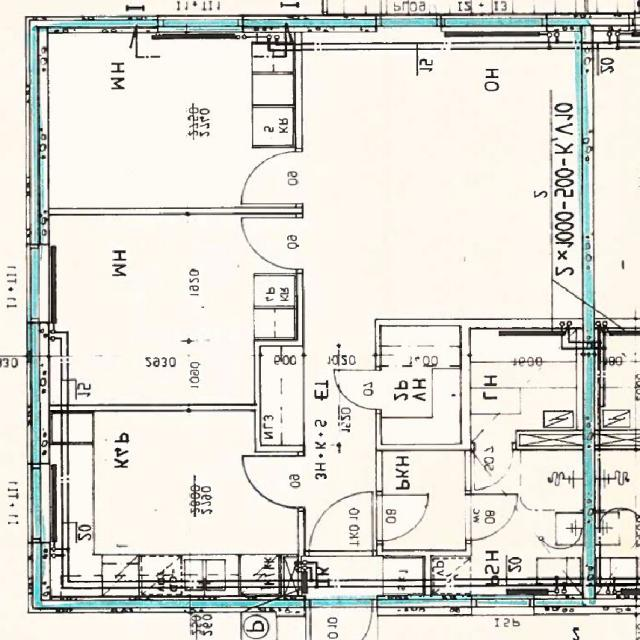door: (310, 490, 373, 556), (240, 151, 304, 203), (241, 218, 304, 269), (243, 456, 305, 507), (465, 494, 520, 539), (334, 369, 382, 409), (381, 0, 436, 32), (475, 442, 513, 484)
